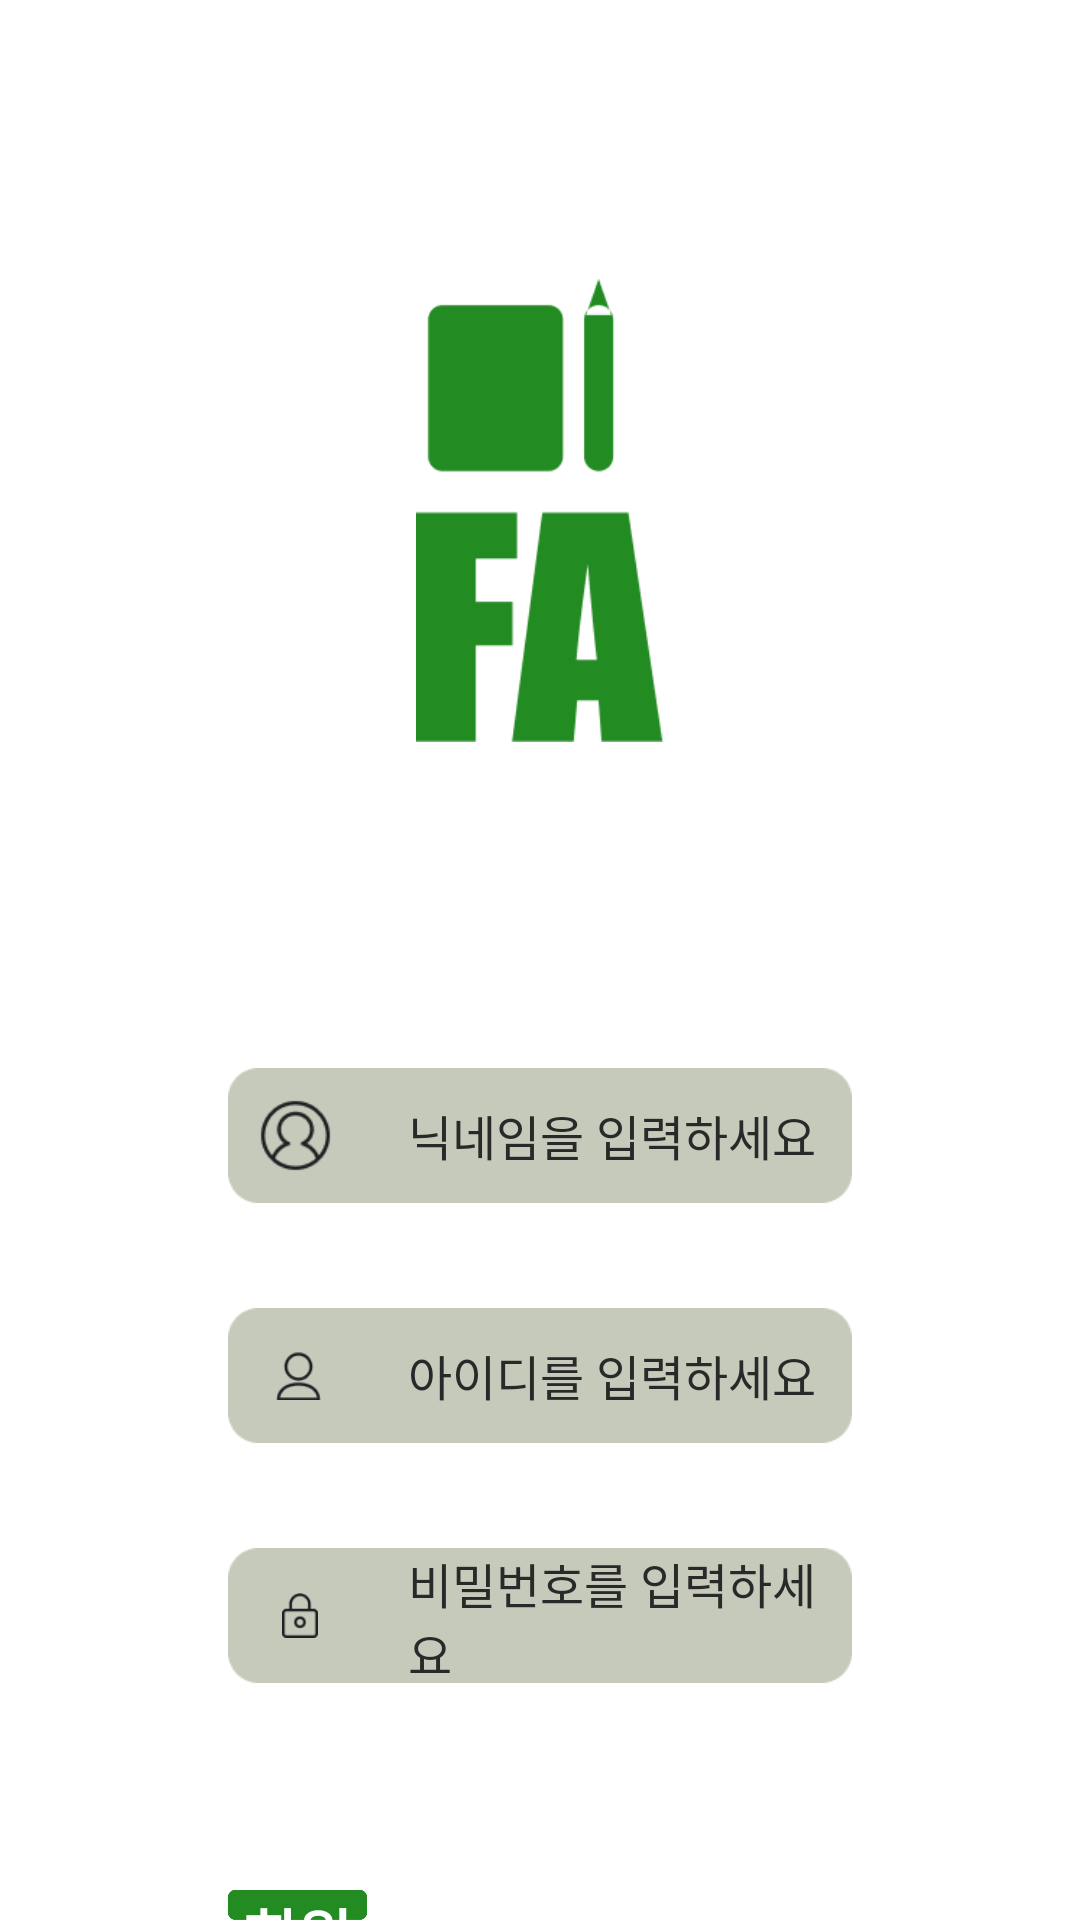

Screen size 1080x1920. Icon name, then its center in pixels as (x,y):
nickname: (295,1135)
password: (300,1615)
